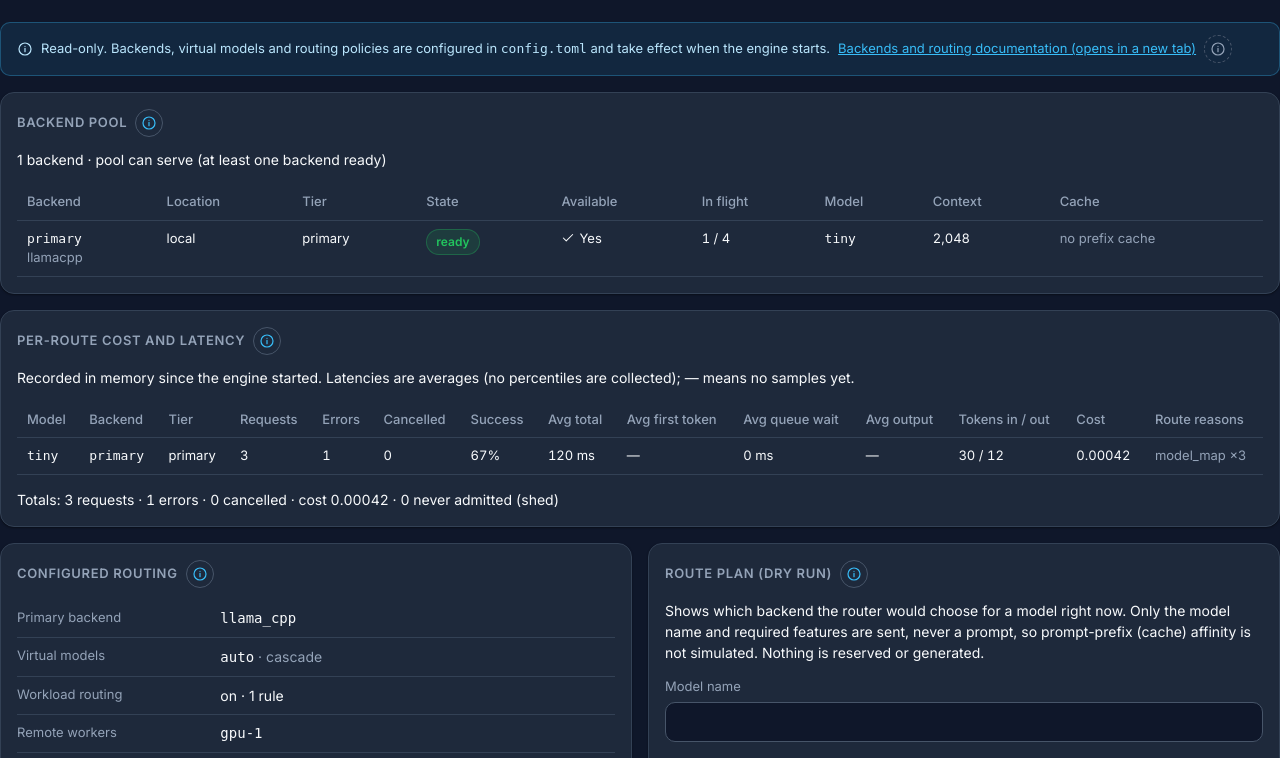
Test case: Backends & Routing view › reports a rejected dry run
This screenshot has width=1280, height=758.
Expected: the element named "Backend pool table" is shown, [17,184,1263,276]
Type "tiny" into the field labelled "Model name" at (964, 722), box [665,702,1263,742]
Then press Enter
(page scrolled)
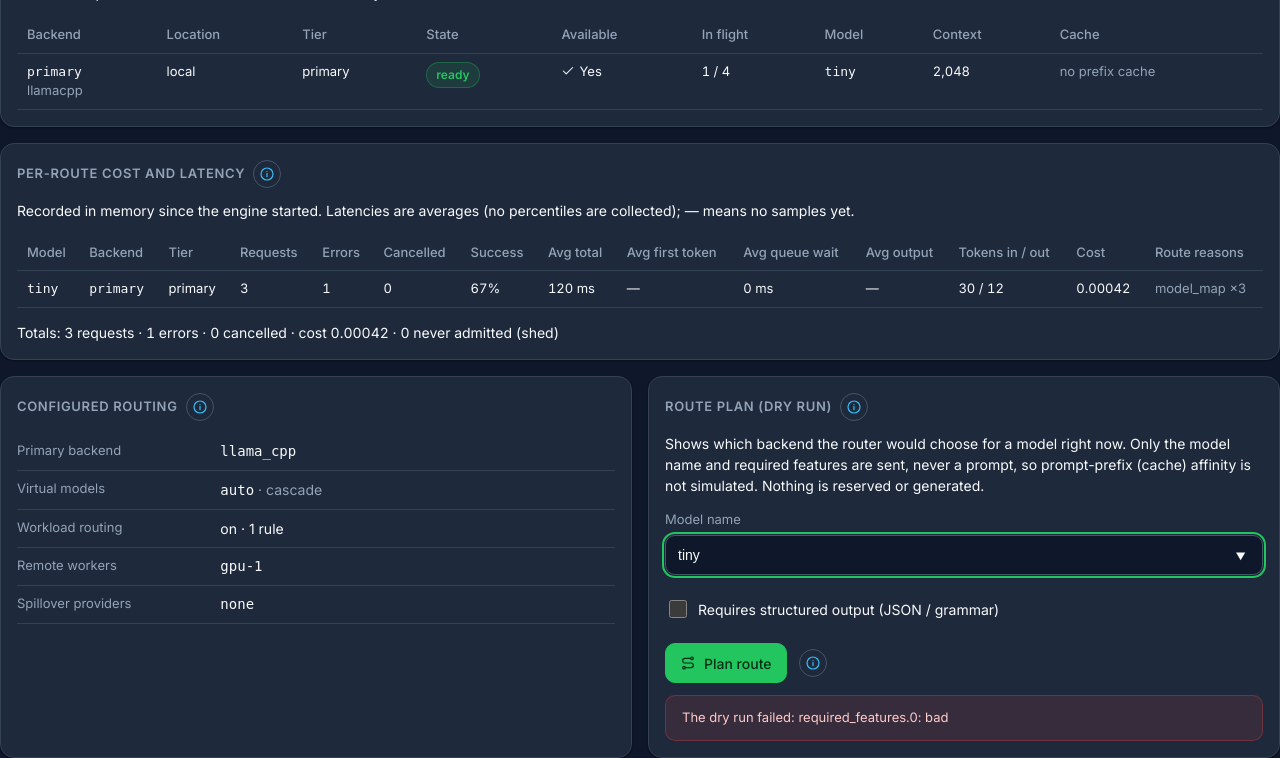
Result: the message reads "The dry run failed: required_features.0: bad" at [682,709,948,725]
